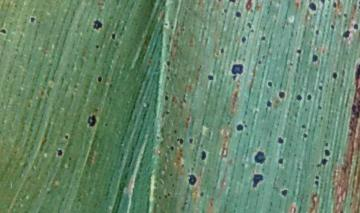tarspot: (253, 150, 266, 164), (252, 173, 263, 189), (232, 62, 243, 75), (87, 113, 97, 127), (188, 174, 197, 186), (93, 19, 102, 30), (354, 63, 360, 79), (308, 2, 317, 12), (342, 28, 351, 38), (350, 103, 358, 113), (200, 150, 207, 161), (234, 10, 242, 19), (278, 90, 286, 99), (281, 188, 289, 197), (56, 148, 63, 158), (311, 54, 318, 64), (236, 124, 244, 132), (277, 136, 284, 145), (331, 71, 338, 79), (323, 149, 330, 157), (312, 178, 319, 186), (110, 32, 116, 41), (306, 93, 312, 102), (29, 16, 36, 23), (207, 74, 214, 81), (266, 101, 273, 108), (260, 35, 267, 42), (321, 158, 328, 165), (64, 133, 70, 141), (241, 36, 247, 44), (296, 94, 302, 102), (332, 1, 338, 9), (246, 21, 252, 29), (278, 157, 284, 165), (165, 59, 171, 66), (188, 137, 194, 144), (199, 191, 205, 198), (267, 81, 273, 88), (296, 48, 302, 55), (317, 84, 323, 91), (103, 121, 109, 128), (315, 162, 322, 168), (343, 12, 349, 19), (97, 75, 102, 83), (164, 94, 169, 102), (1, 28, 7, 34), (172, 128, 178, 134), (300, 123, 306, 129), (179, 138, 184, 145), (170, 145, 175, 152), (232, 74, 237, 81), (353, 24, 358, 31), (315, 29, 320, 36), (165, 75, 170, 82), (223, 7, 228, 14), (95, 44, 100, 50), (220, 48, 225, 54), (330, 23, 335, 29), (317, 104, 322, 110), (303, 132, 308, 138), (227, 1, 237, 4), (324, 142, 329, 147), (257, 60, 262, 65), (164, 193, 168, 199), (320, 1, 326, 5), (314, 175, 319, 179)
